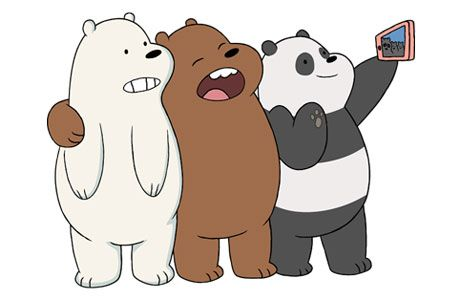bear: (55, 9, 180, 287), (158, 15, 283, 286), (258, 25, 379, 281)
